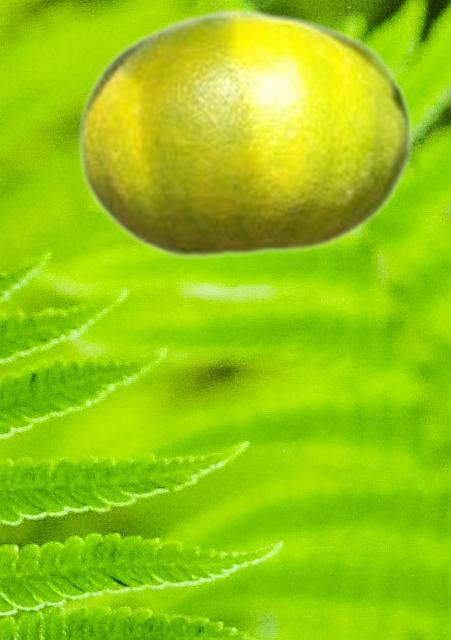dalandan: (76, 7, 412, 260)
